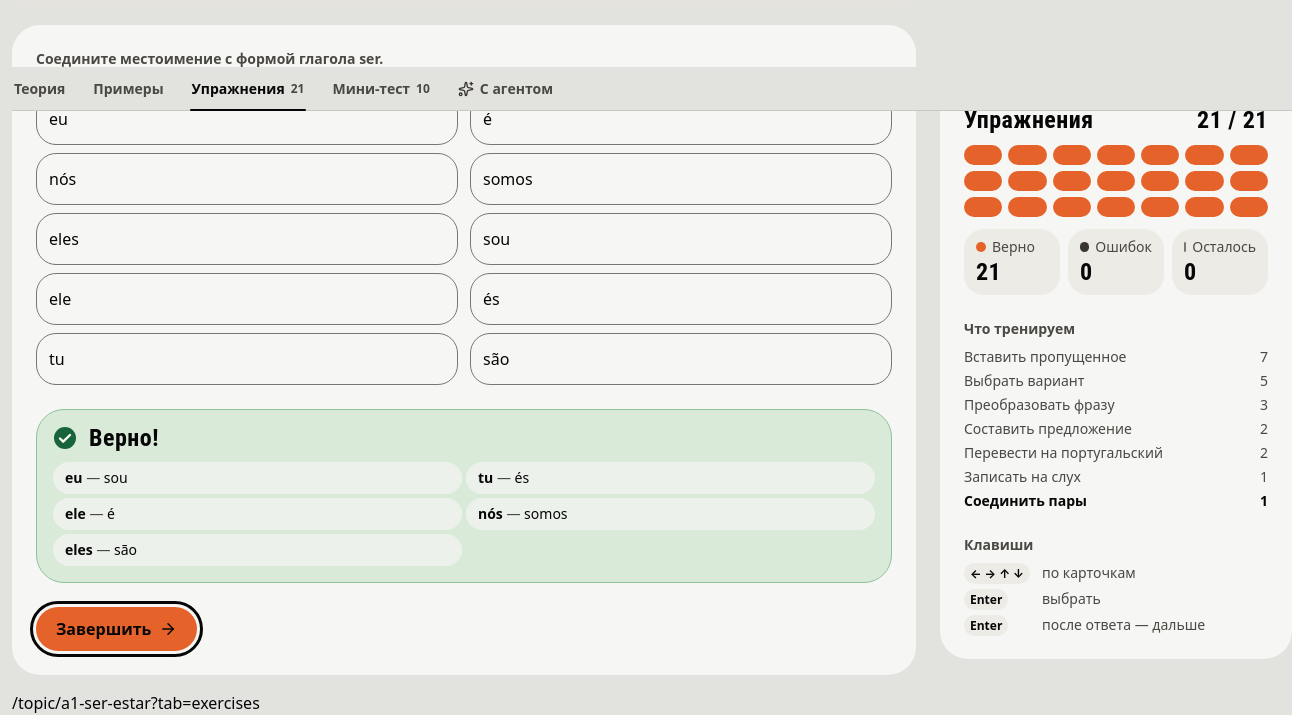
Test: TopicPage: practice (PracticeSection + ResultScreen) › good lesson run → saved progress, primary «Мини-тест · 10 вопросов» opens the mini-test tab
The width and height of the screenshot is (1292, 715).
(page scrolled)
Click the button "Завершить" at (117, 629), box left=36, top=607, right=197, bottom=651
(page scrolled)
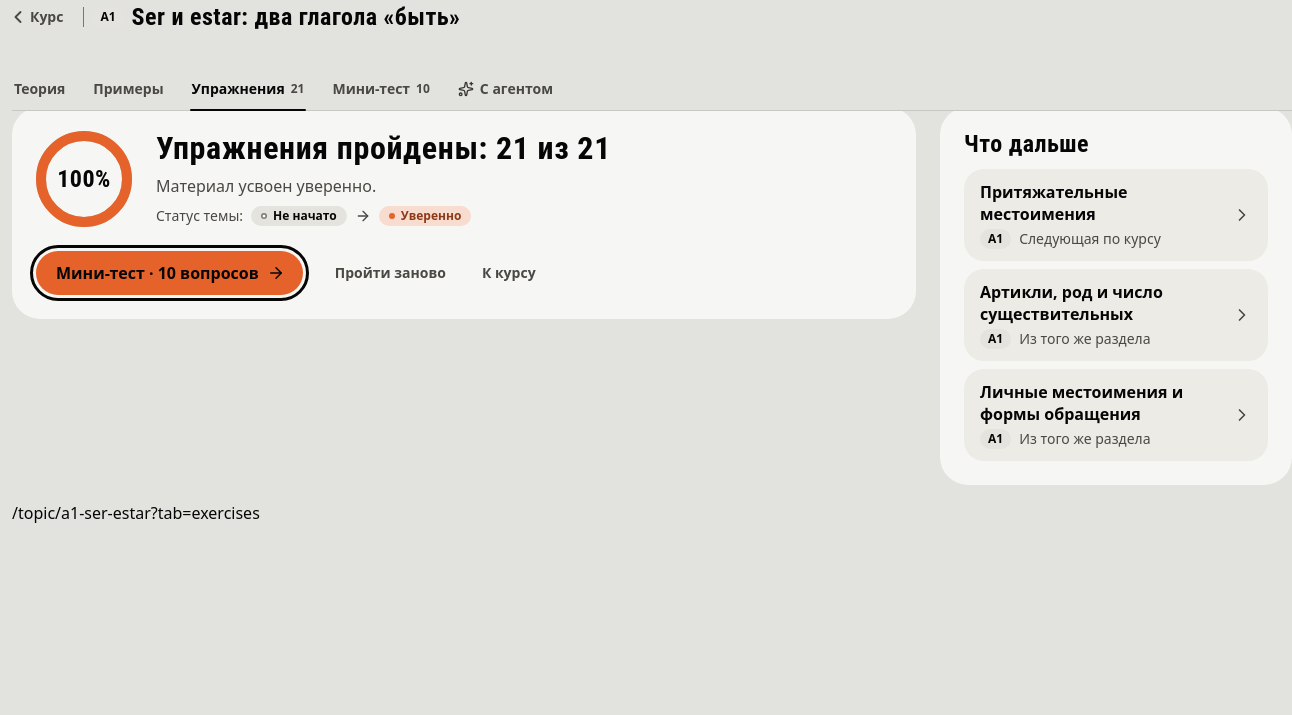
Expected: the heading "Упражнения пройдены: 21 из 21" is shown, left=156, top=132, right=611, bottom=166
Expected: the text "Статус темы:" is shown, left=156, top=206, right=243, bottom=226
Click the button "Мини-тест · 10 вопросов" at (169, 273), box left=36, top=251, right=303, bottom=295
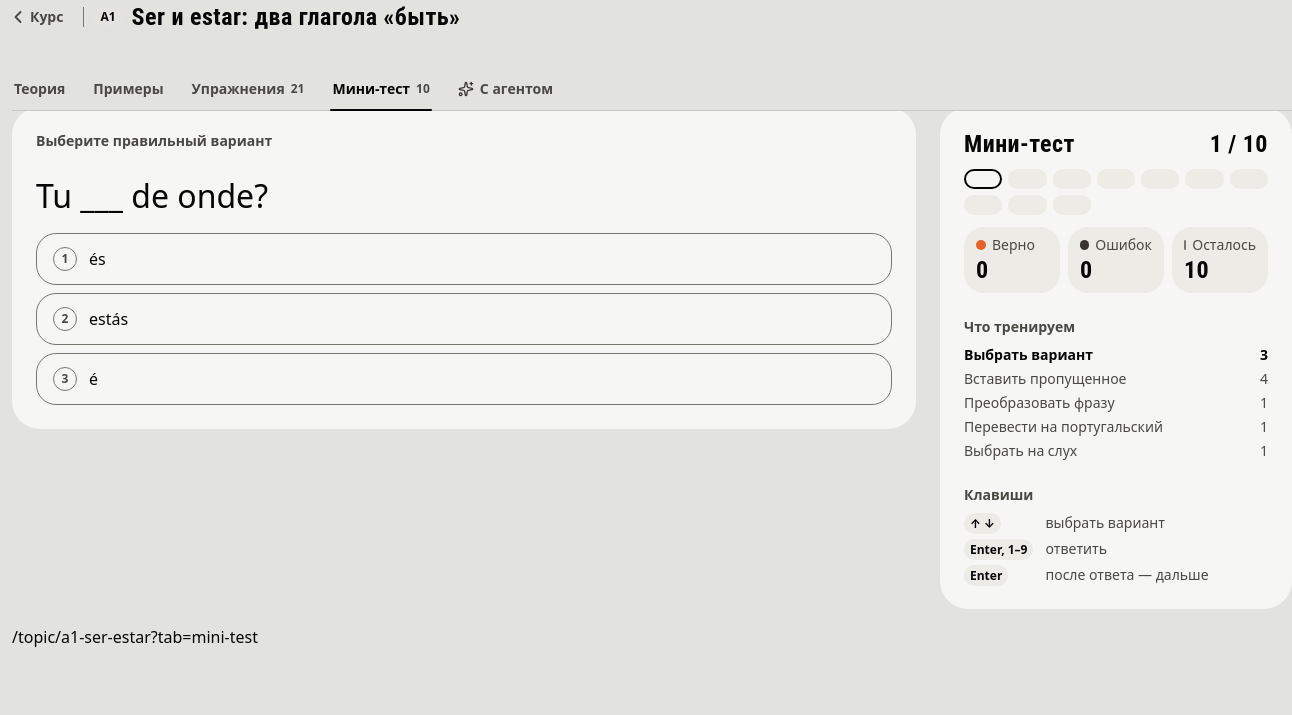
Expected: the text with test id "loc" reads "/topic/a1-ser-estar?tab=mini-test", left=12, top=626, right=258, bottom=648
